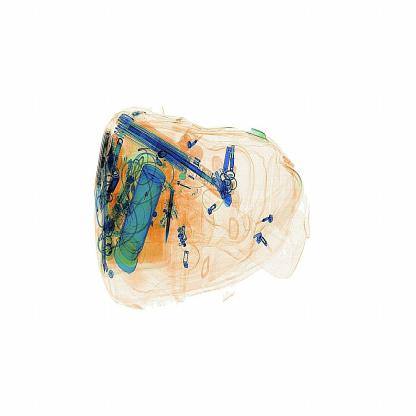gun: (160, 165, 188, 245)
